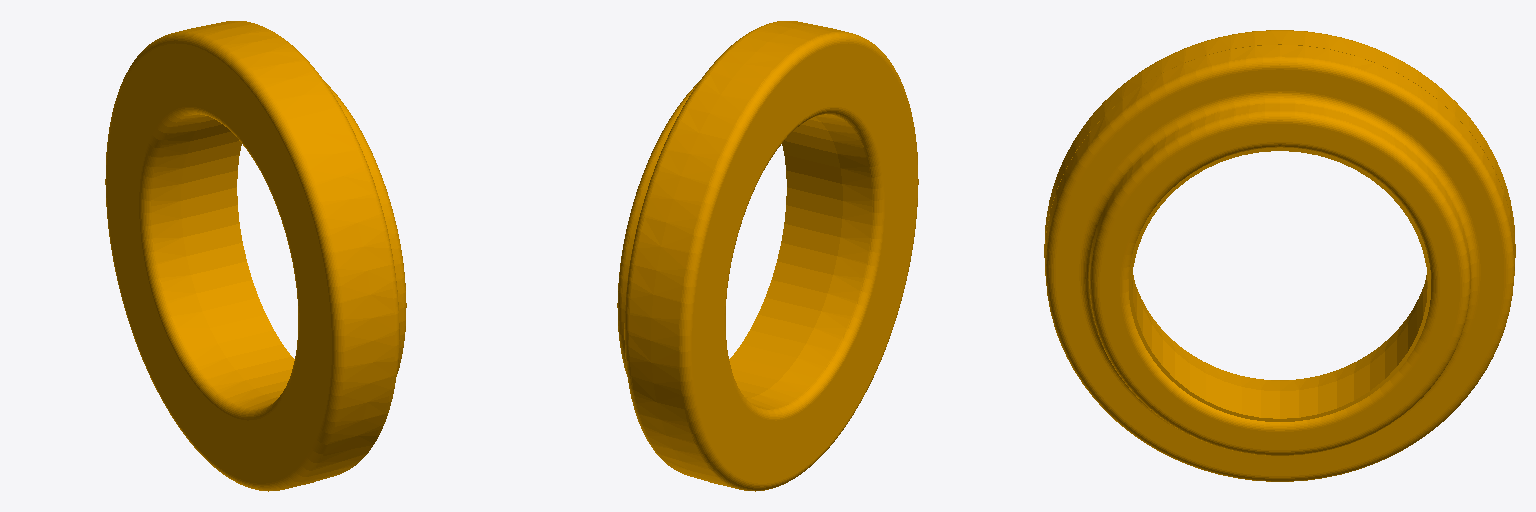
robot.urdf — Part1.urdf:
<?xml version="1.0" ?>
<robot name="Part1.urdf">
  <link name="baseLink">
    <contact>
      <lateral_friction value="0.5"/>
      <rolling_friction value="0.0"/>
      <contact_cfm value="0.0"/>
      <contact_erp value="1.0"/>
    </contact>
    <inertial>
      <origin rpy="0 0 0" xyz="0.0 0.0 0.0"/>
       <mass value=".1"/>
       <inertia ixx="1" ixy="0" ixz="0" iyy="1" iyz="0" izz="1"/>
    </inertial>
    <visual>
      <origin rpy="0 0 0" xyz="0 0 0"/>
      <geometry>
        <mesh filename="Part1_mm.obj" scale=".001 .001 .001"/> #scale="1 1 1"
      </geometry>
    </visual>
    <collision>
      <origin rpy="0 0 0" xyz="0 0 0"/>
      <geometry>
	 <mesh filename="Part1_mm.obj" scale=".001 .001 .001"/> #scale=".1 .1 .1"
      </geometry>
    </collision>
  </link>
</robot>

--- Render facts (derived) ---
3 views of the same robot in one strip: view 1: azimuth 30°, elevation 25°; view 2: azimuth 150°, elevation 25°; view 3: azimuth 270°, elevation 25° (orthographic).
Model Part1.urdf with 1 links and 0 joints (none), rooted at baseLink, posed all joints at 0.
Links seen in each view (by area): view 1: baseLink; view 2: baseLink; view 3: baseLink.
Link boxes in pixels (x1,y1,x2,y2): baseLink: (105,21,406,491); baseLink: (617,21,918,491); baseLink: (1044,30,1515,481).
Size in the robot's own frame: 0.0225 by 0.0956 by 0.0956 metres.
Meshes: 1 distinct files referenced, 1 mesh visuals loaded (1 OBJ).